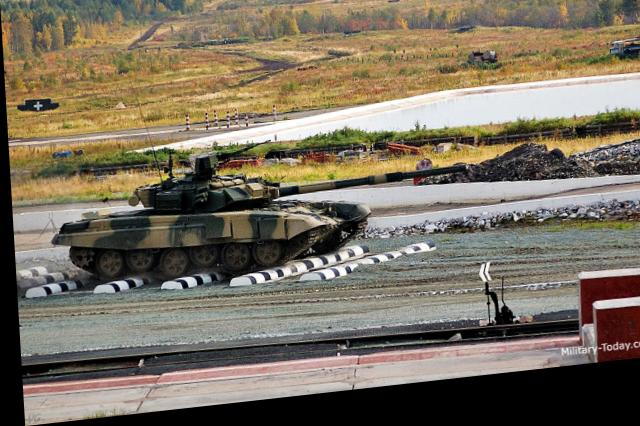tank: (48, 142, 364, 290)
